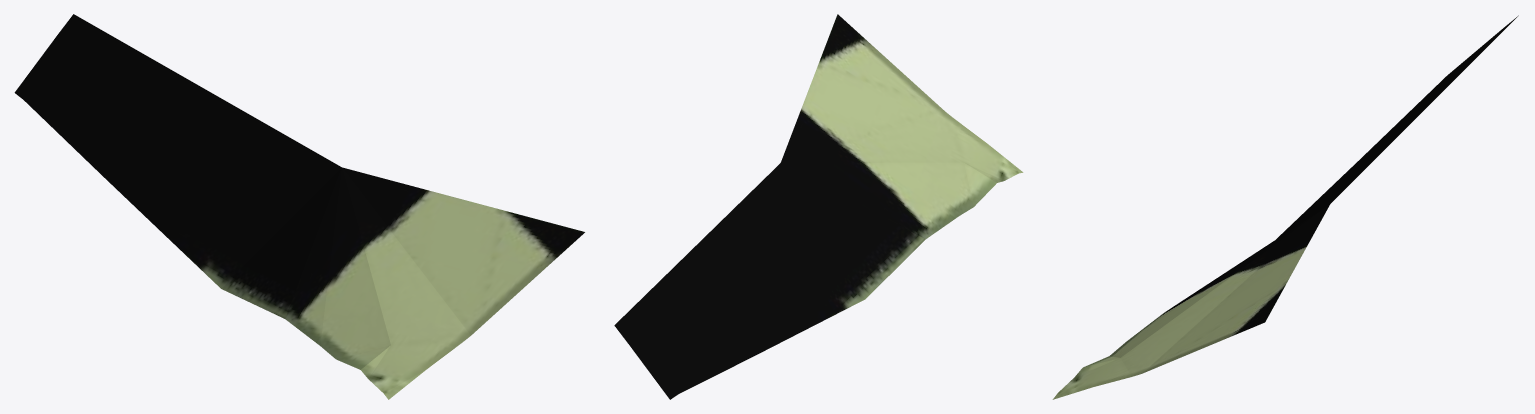
The picture shows the model from 3 angles, left to right: view 1: azimuth 30°, elevation 25°; view 2: azimuth 150°, elevation 25°; view 3: azimuth 330°, elevation 25°; orthographic projection. The views are drawn at different scales.
Bounding box in the file's own units: 7.17 × 4.57 × 23.6.
1 material, 1 textured.
